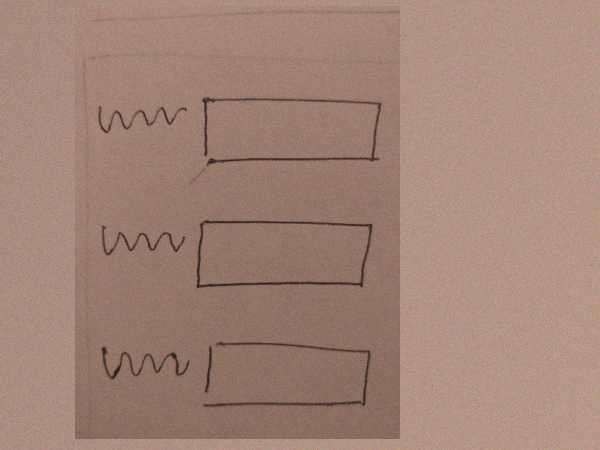text: (97, 340, 191, 390), (97, 218, 187, 270), (92, 97, 188, 137)
text_input: (196, 85, 387, 170), (193, 215, 380, 293), (199, 333, 374, 416)
